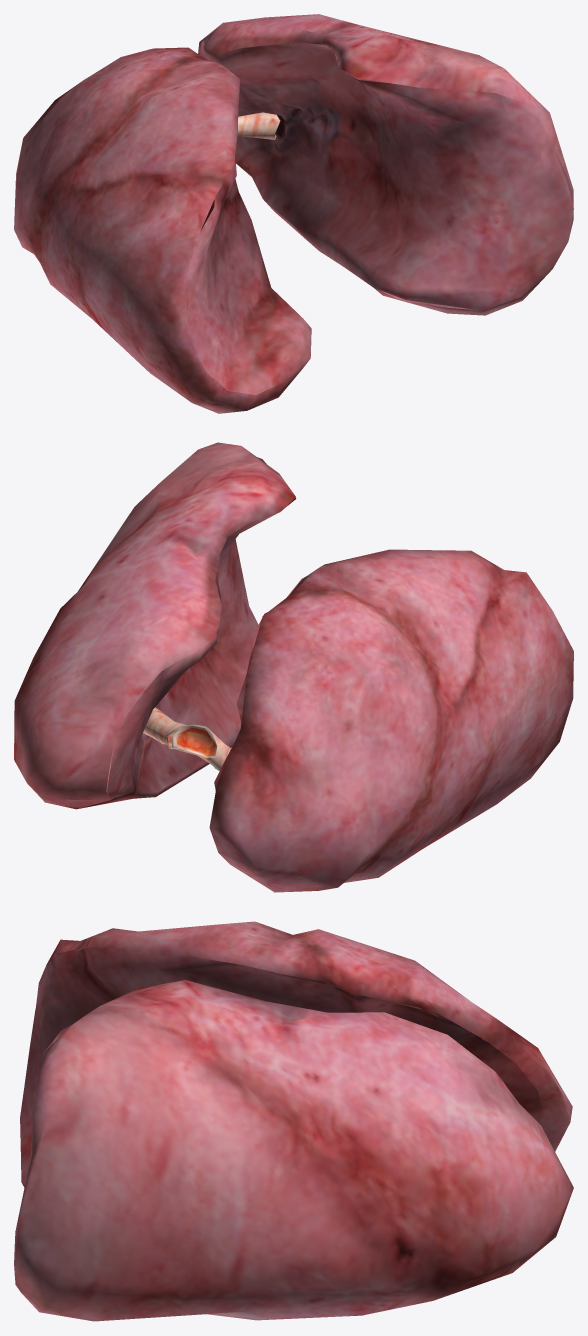
File: asset2.glb
3 renders of one model, top to bottom at view 1: azimuth 30°, elevation 25°; view 2: azimuth 150°, elevation 25°; view 3: azimuth 270°, elevation 25°, orthographic. The views are drawn at different scales.
Visible parts, largest first — view 1: Bronchi_Vessels_pivot.655; view 2: Bronchi_Vessels_pivot.655; view 3: Bronchi_Vessels_pivot.655.
Boxes of the visible parts, x1,y1,x2,y2 form: Bronchi_Vessels_pivot.655: (14, 14, 573, 413); Bronchi_Vessels_pivot.655: (14, 442, 573, 892); Bronchi_Vessels_pivot.655: (14, 921, 573, 1321).
Bounding box in the file's own units: 0.497 × 0.339 × 0.5051.
3 materials, 3 textured.
